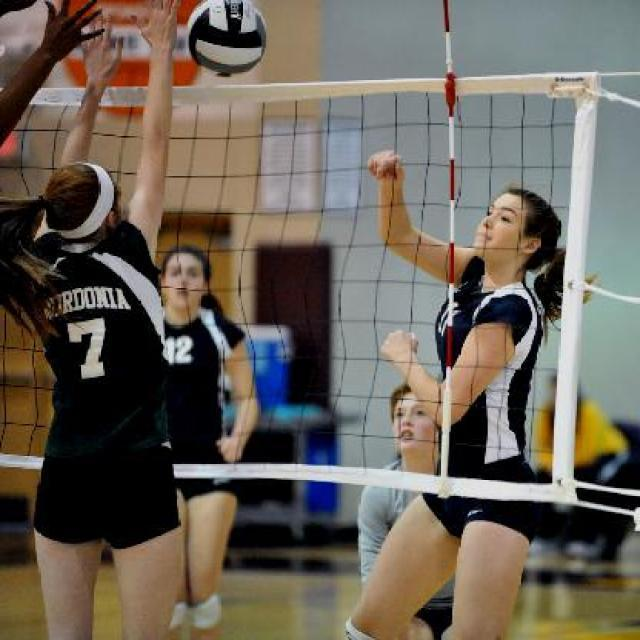volleyball: (186, 1, 267, 78)
